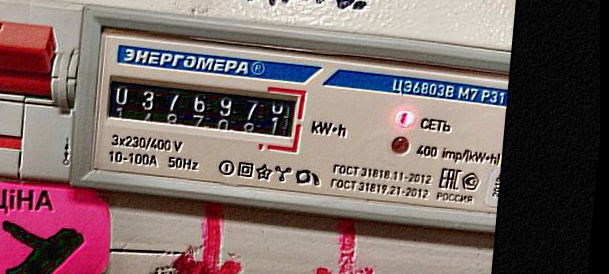0: (113, 83, 129, 106)
1: (268, 115, 281, 136)
3: (140, 89, 156, 111)
6: (191, 90, 208, 114)
7: (165, 89, 182, 114), (243, 98, 260, 122)
9: (217, 94, 233, 117)
screen: (96, 62, 311, 156)
